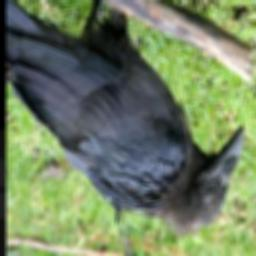Crow: (6, 0, 246, 236)
